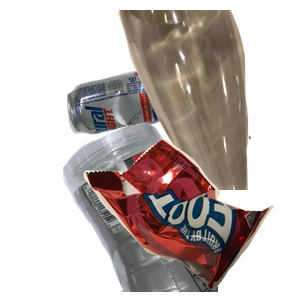glass: (115, 10, 300, 190)
metal: (65, 65, 231, 192)
plastic: (60, 120, 300, 300)
trash: (81, 136, 300, 300)
